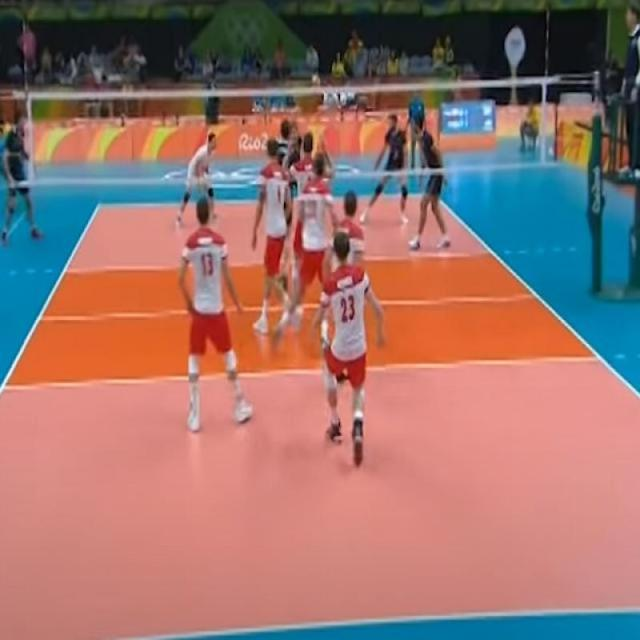volleyball: (310, 69, 322, 88)
